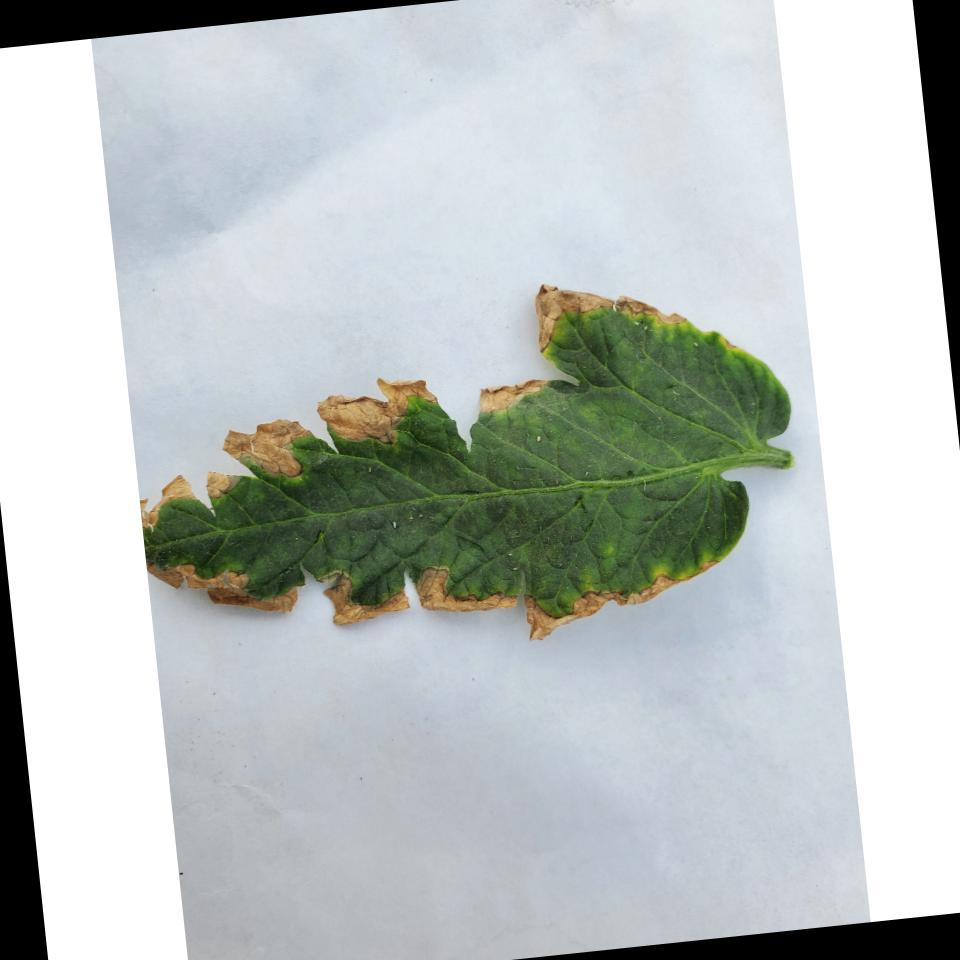tomato_bacterial_blight: (123, 280, 835, 658)
